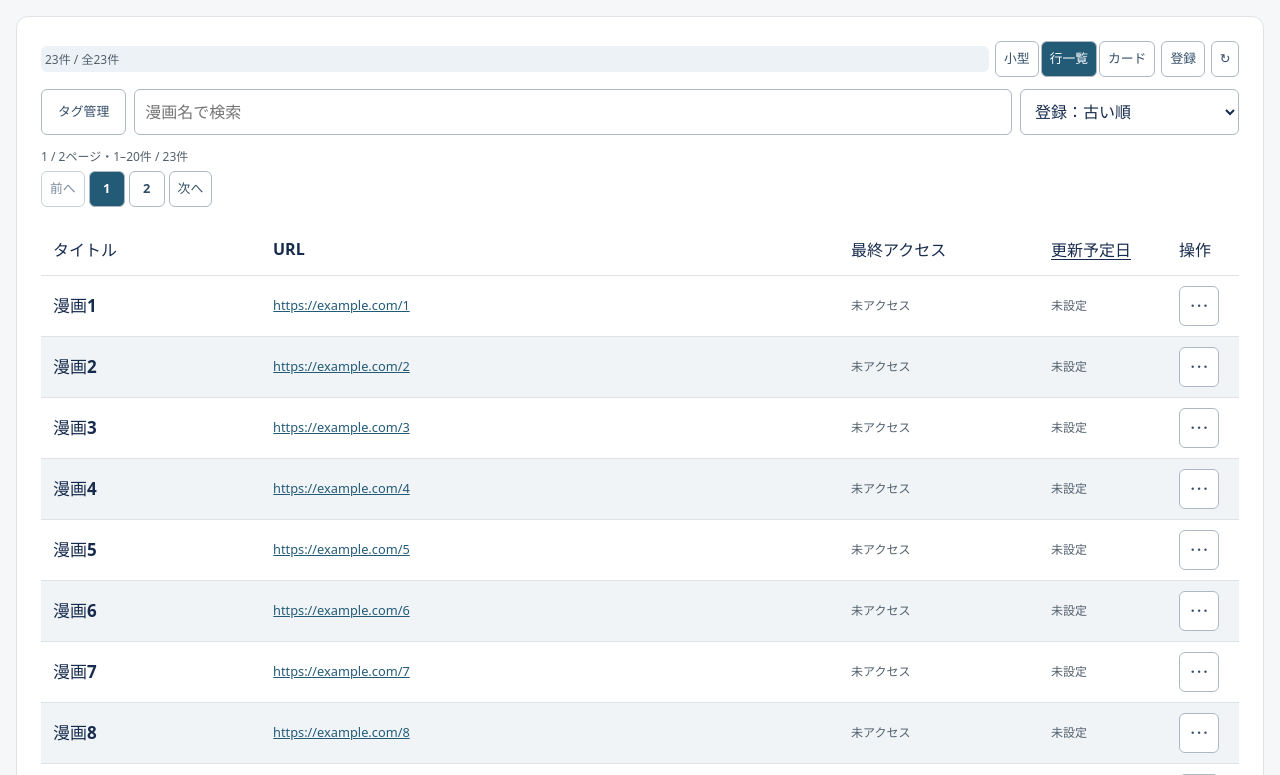
管理画面で検出した停止を閉じても残し、開き直しても再取得しない
This screenshot has width=1280, height=775.
Expected: the heading "漫画1" is shown, [53,294,97,317]
What coordinates should you click on to do the following:
click the button "タグ管理"
I would click on:
 (84, 112)
Its box is [41,89,126,135].
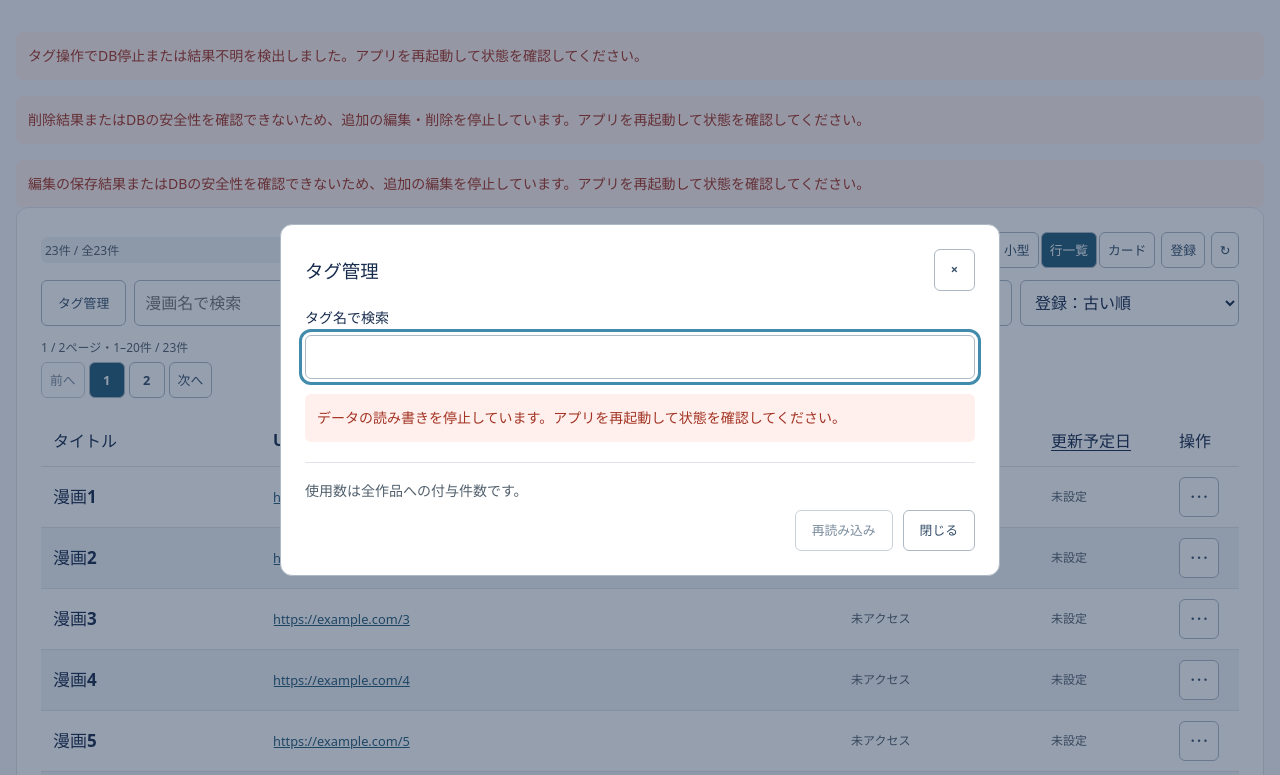
Now the message "データの読み書きを停止しています。アプリを再起動して状態を確認してください。" is shown, box [305,394,975,442]
What coordinates should you click on to do the following:
click the button "閉じる"
I would click on:
 (939, 531)
Its box is [903,510,975,552].
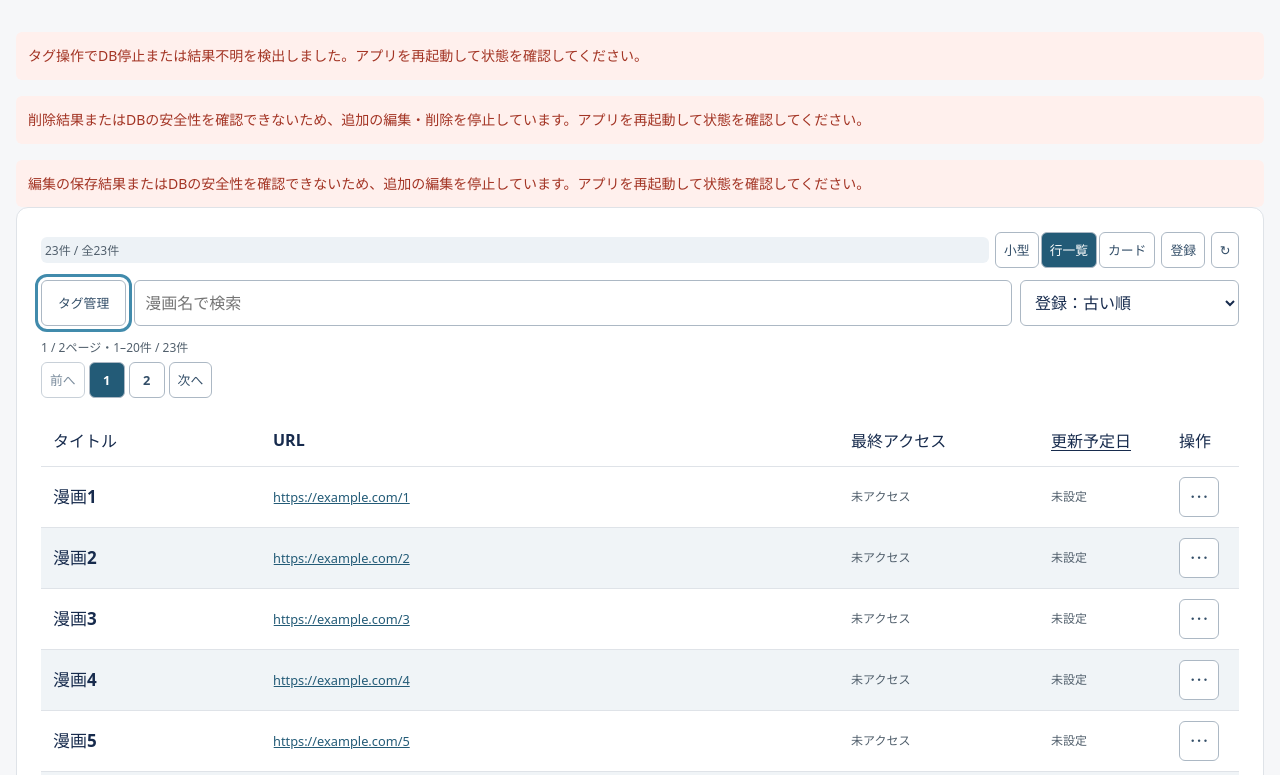
Now the text "タグ操作でDB停止または結果不明を検出しました。アプリを再起動して状態を確認してください。" is shown, box [16,32,1264,80]
What coordinates should you click on to do the following:
click the button "タグ管理"
I would click on:
 (84, 303)
Its box is [41,280,126,326].
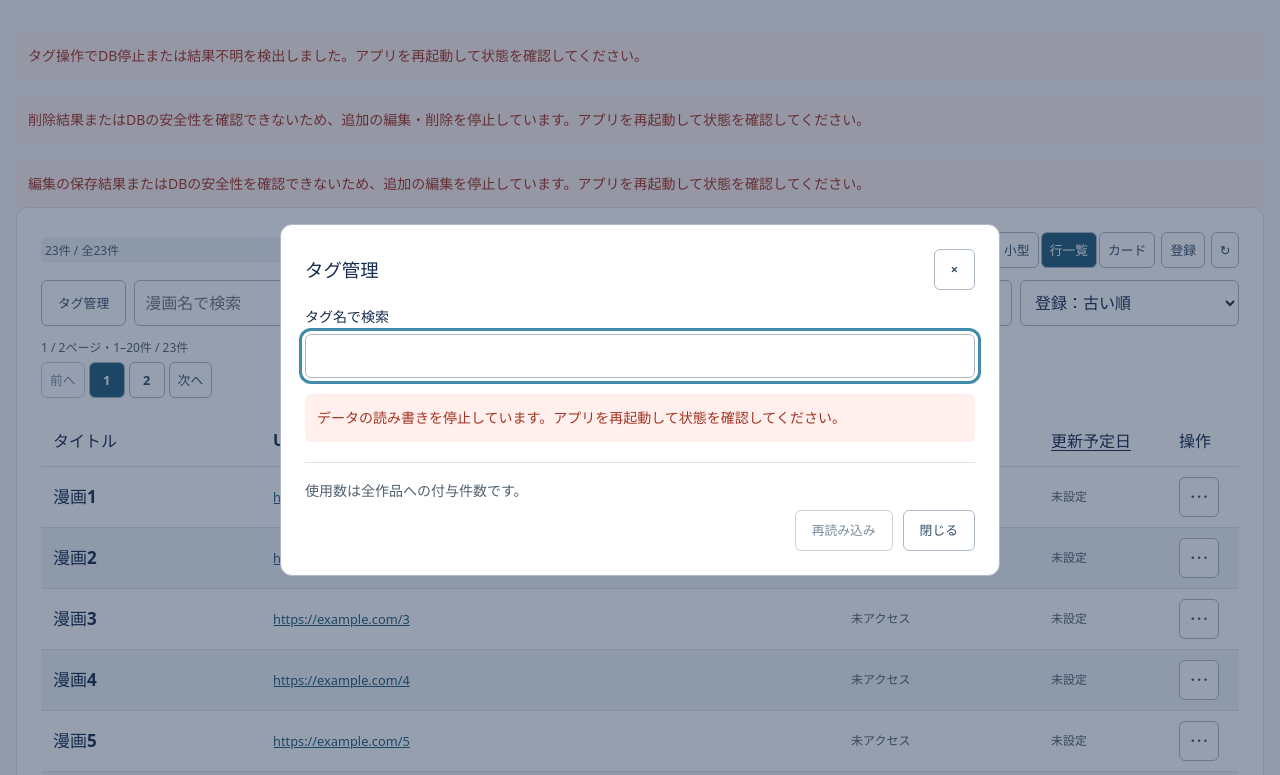
Now the button "再読み込み" is disabled, box [795,510,893,552]
